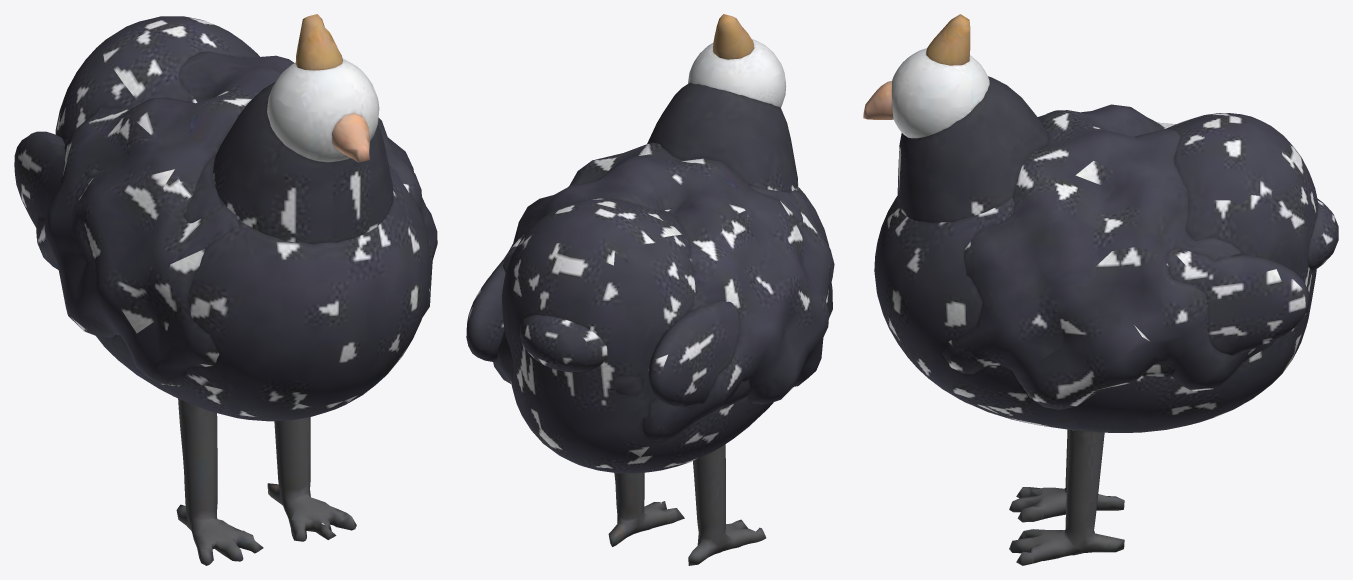
Rendered from animal_guinea_fowl.glb.
3 views of the same model, side by side, from view 1: azimuth 30°, elevation 25°; view 2: azimuth 150°, elevation 25°; view 3: azimuth 270°, elevation 25° (orthographic). The views are drawn at different scales.
Visible parts, largest first — view 1: animal_guinea_fowl, head, leg0, leg1; view 2: animal_guinea_fowl, head, leg0, leg1; view 3: animal_guinea_fowl, head, leg1, leg0.
Boxes of the visible parts, <box> form: animal_guinea_fowl: <box>14,16,437,421</box>; head: <box>267,14,379,162</box>; leg0: <box>176,398,263,565</box>; leg1: <box>267,417,356,541</box>; animal_guinea_fowl: <box>466,82,834,473</box>; head: <box>688,14,786,107</box>; leg0: <box>688,444,766,565</box>; leg1: <box>608,472,684,546</box>; animal_guinea_fowl: <box>874,76,1338,432</box>; head: <box>863,14,989,138</box>; leg1: <box>1009,429,1124,565</box>; leg0: <box>1009,429,1124,522</box>.
Size of the model in its own units: 0.1689 by 0.2751 by 0.2292.
1 material, 1 textured.
